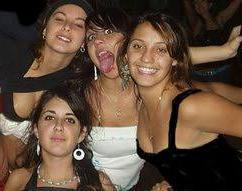Drunk: (128, 26, 171, 86), (38, 100, 78, 155), (87, 23, 121, 79), (50, 6, 83, 53)
